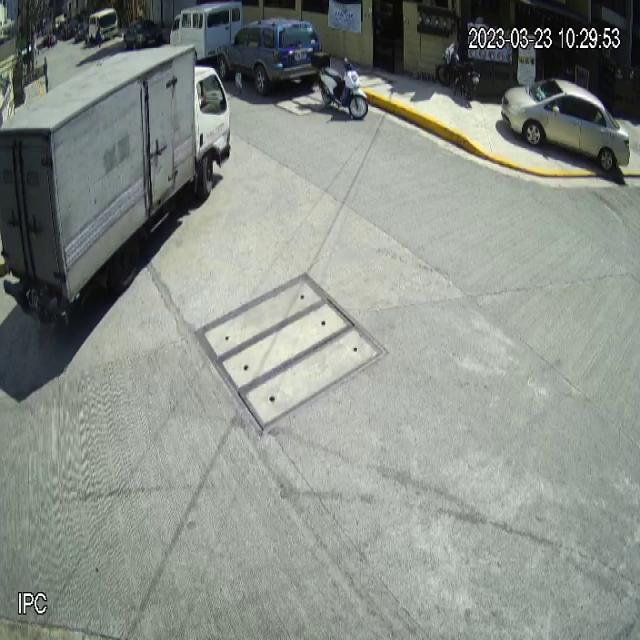Car: (501, 78, 630, 170), (216, 17, 322, 96)
Motorcycle: (311, 52, 368, 121)
Truck: (0, 44, 231, 330)
